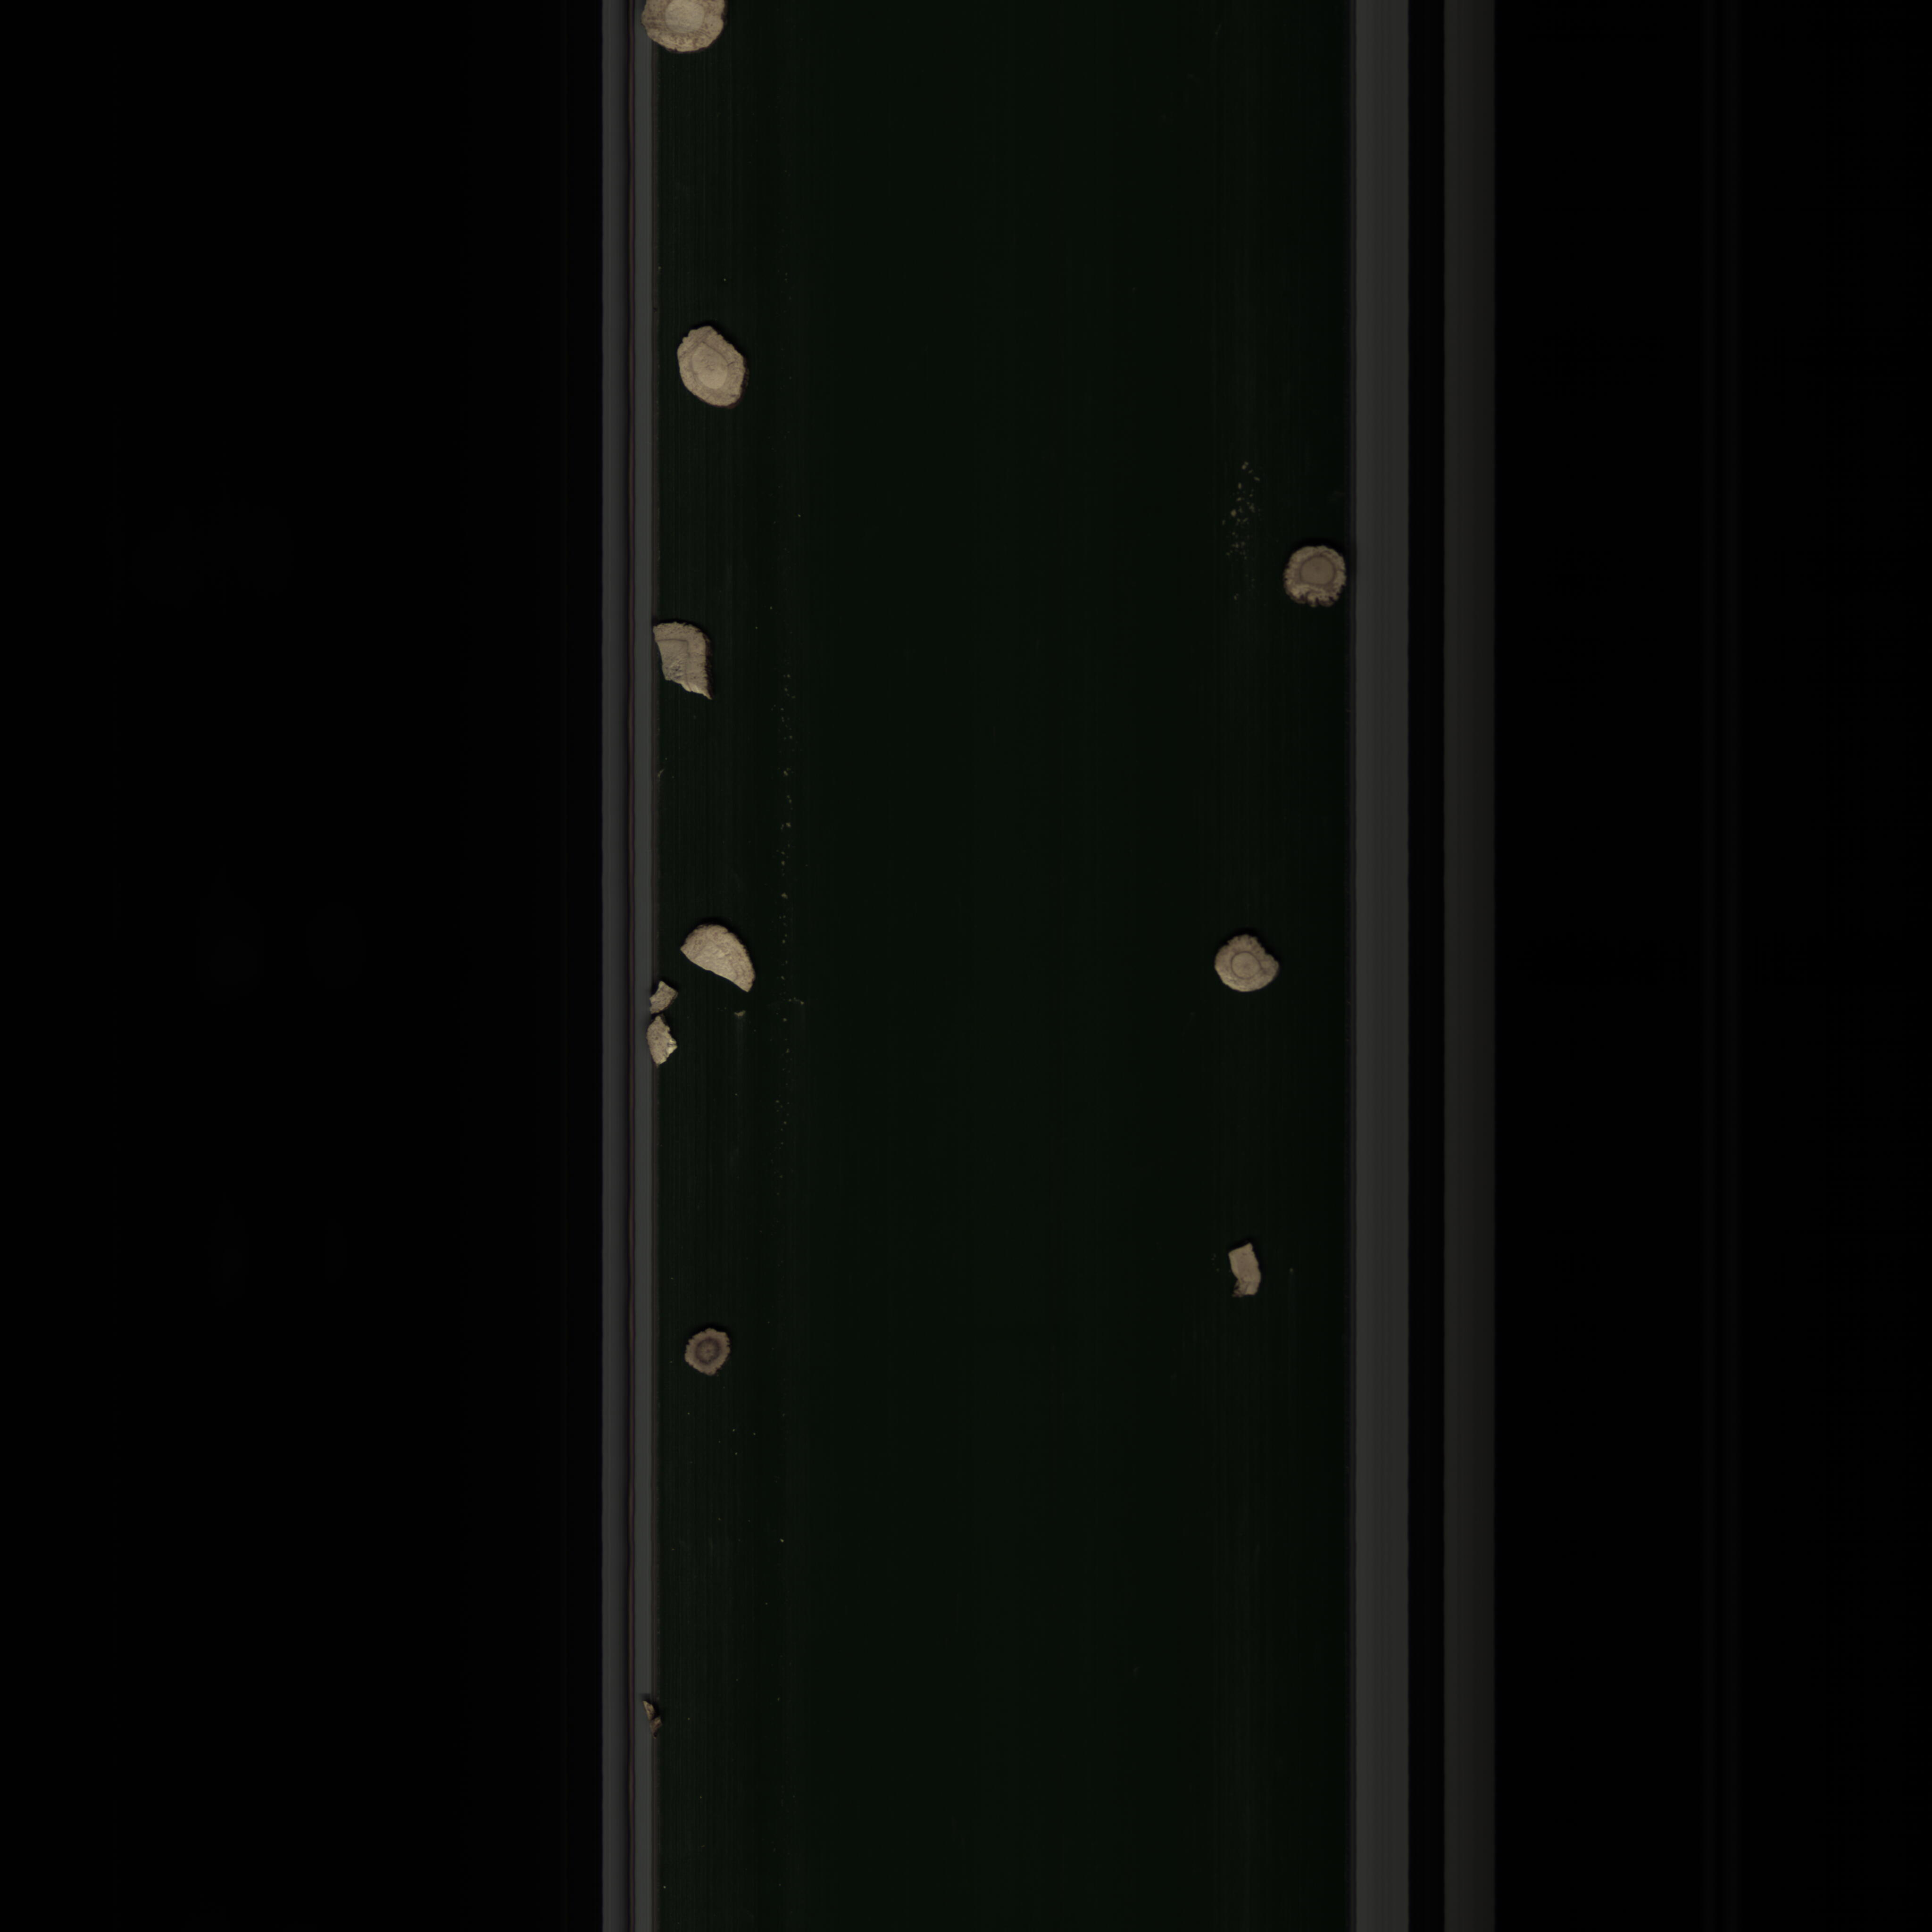debris: (642, 614, 718, 713), (672, 918, 766, 996), (644, 975, 690, 1072), (1217, 1237, 1277, 1309)
moldy: (1270, 543, 1359, 617), (669, 1322, 740, 1380)
